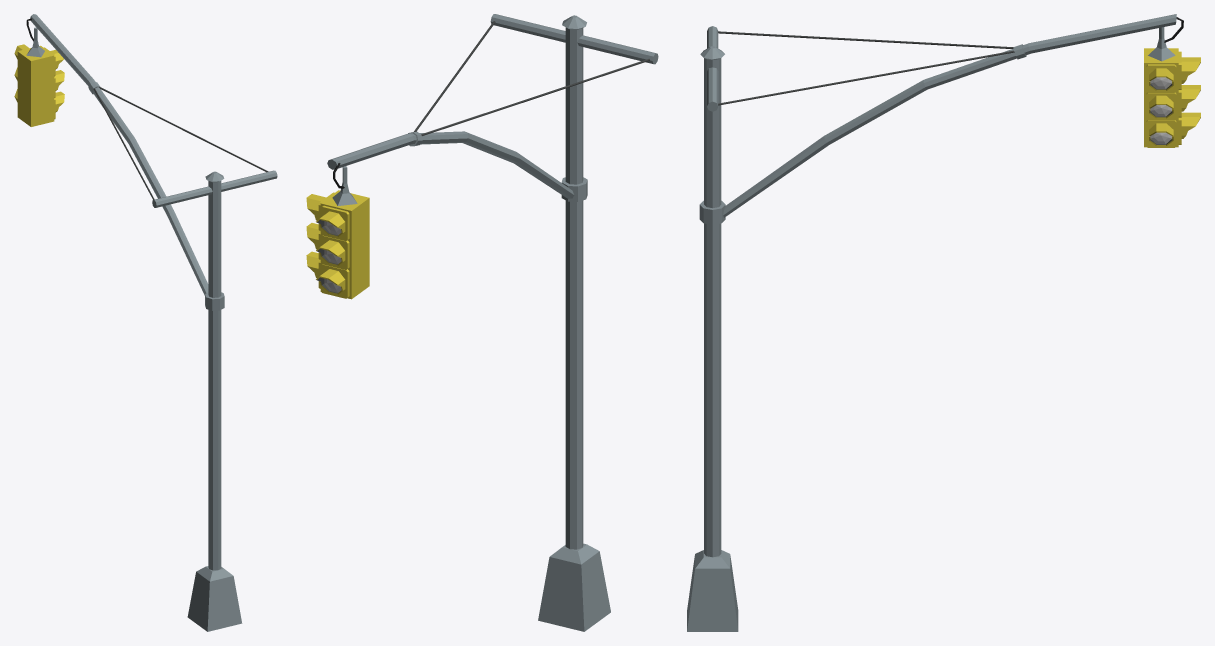
File: Traffic_light_2.fbx
3 views of the same model, side by side, from view 1: azimuth 30°, elevation 25°; view 2: azimuth 150°, elevation 25°; view 3: azimuth 270°, elevation 25° (orthographic). The views are drawn at different scales.
Visible parts, largest first — view 1: Traffic_light_1; view 2: Traffic_light_1; view 3: Traffic_light_1.
Part boxes in pixels (x1=…): Traffic_light_1: x1=14, y1=14, x2=277, y2=631; Traffic_light_1: x1=306, y1=14, x2=658, y2=631; Traffic_light_1: x1=687, y1=14, x2=1200, y2=631.
Bounding box in the file's own units: 100 × 374 × 287.
Materials: 7 (1 with a texture image).
